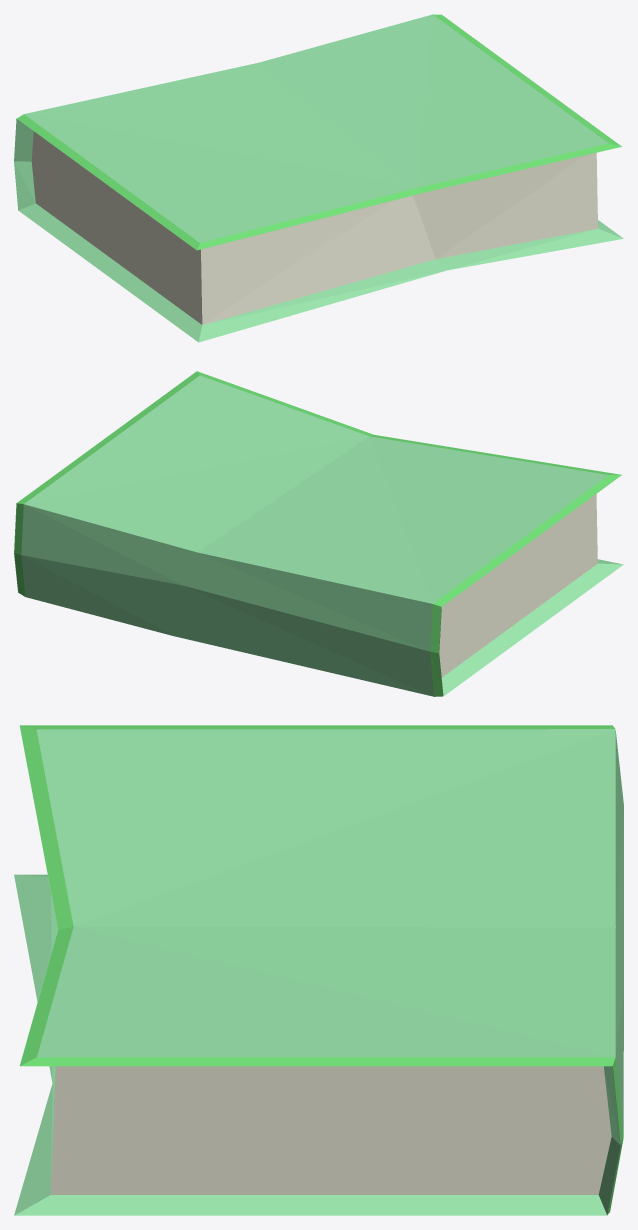
Rendered from Libro verde.fbx.
3 renders of one model, top to bottom at view 1: azimuth 30°, elevation 25°; view 2: azimuth 150°, elevation 25°; view 3: azimuth 270°, elevation 25°, orthographic. The views are drawn at different scales.
Parts seen in each view (by area): view 1: Cube.004; view 2: Cube.004; view 3: Cube.004.
Part boxes in pixels (left/top/right/bottom): Cube.004: left=14, top=14, right=623, bottom=342; Cube.004: left=14, top=371, right=623, bottom=696; Cube.004: left=14, top=725, right=623, bottom=1215.
Size of the model in its own units: 200 by 43.63 by 151.
